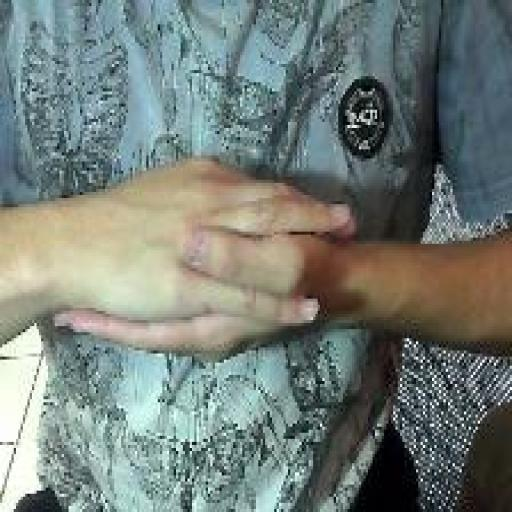Saru -monkey-: (47, 145, 364, 373)
